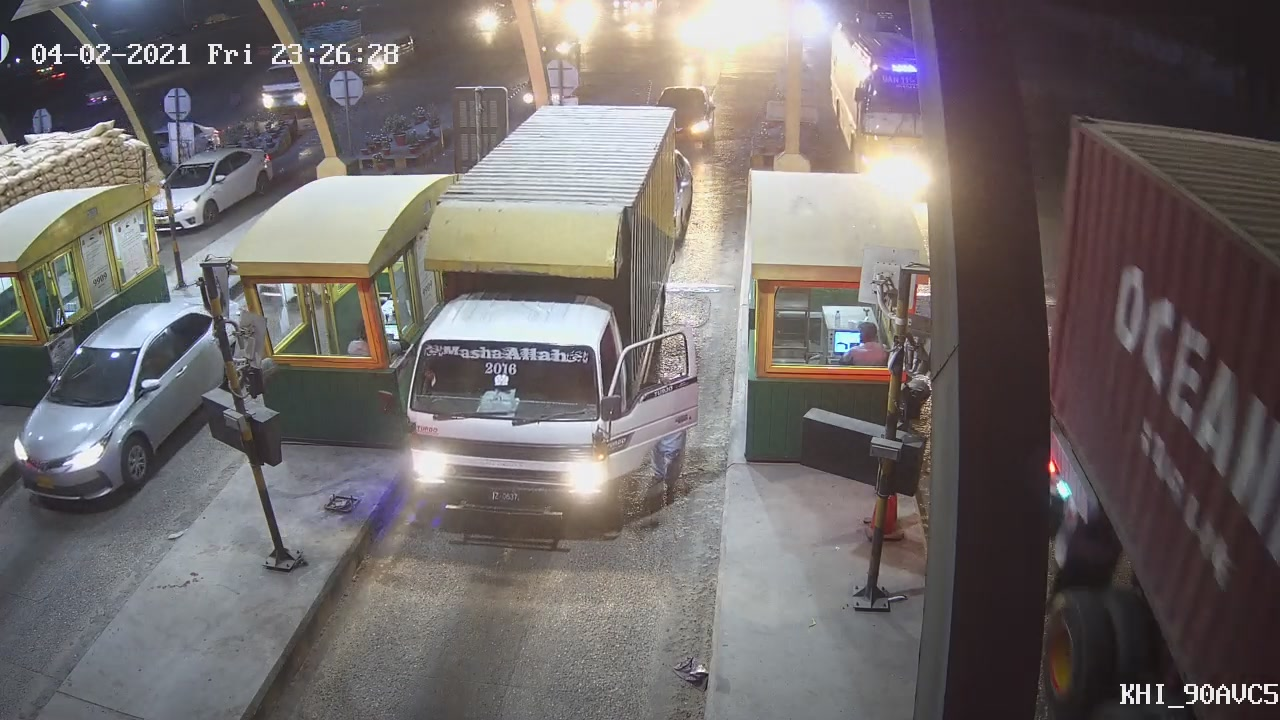F5: (401, 97, 695, 531)
